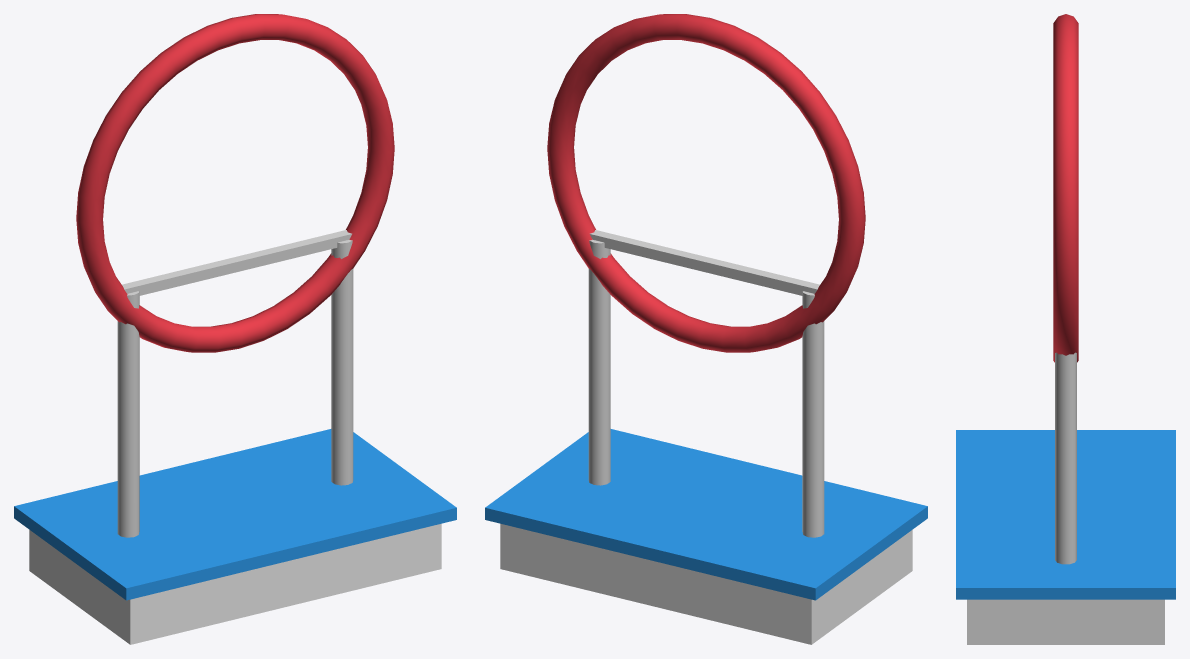
Rendered from hoop.glb.
3 renders of one model, left to right at view 1: azimuth 30°, elevation 25°; view 2: azimuth 150°, elevation 25°; view 3: azimuth 270°, elevation 25°, orthographic. The views are drawn at different scales.
Visible parts, largest first — view 1: Dolphin hoop; view 2: Dolphin hoop; view 3: Dolphin hoop.
Part boxes in pixels (x1,y1,x2,y2): Dolphin hoop: (14,14,456,644); Dolphin hoop: (485,14,927,644); Dolphin hoop: (956,14,1175,644).
Bounding box in the file's own units: 1.7 × 2.71 × 1.
